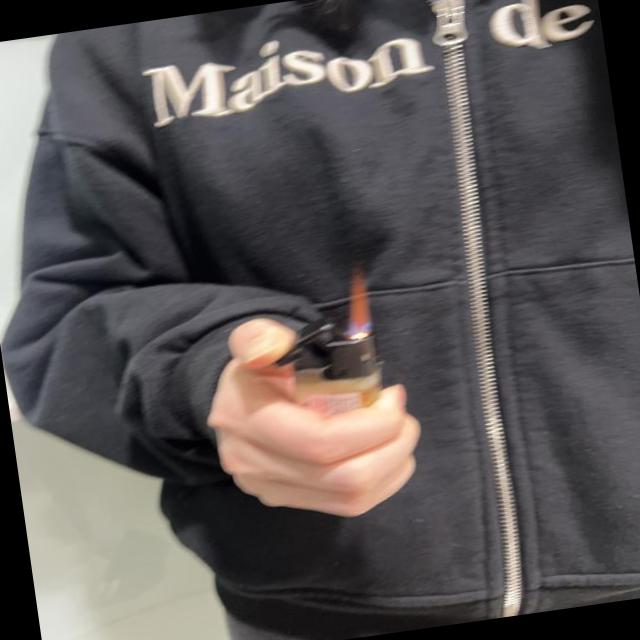Fire: (344, 270, 374, 334)
